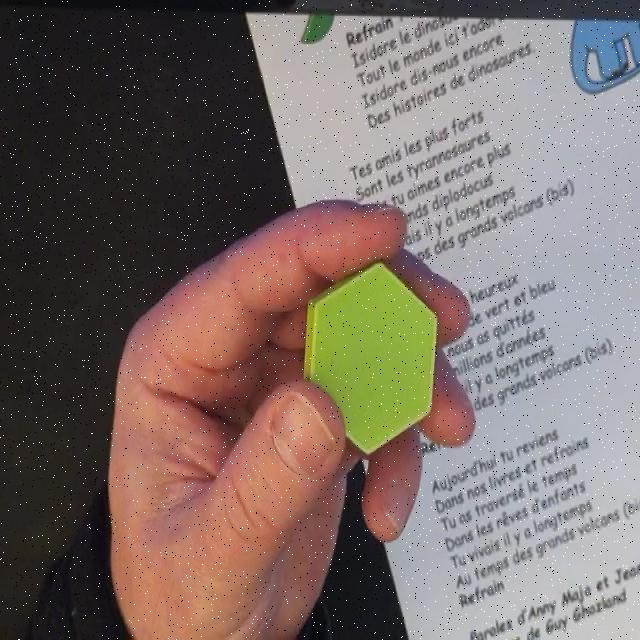hexagon: (299, 260, 441, 457)
